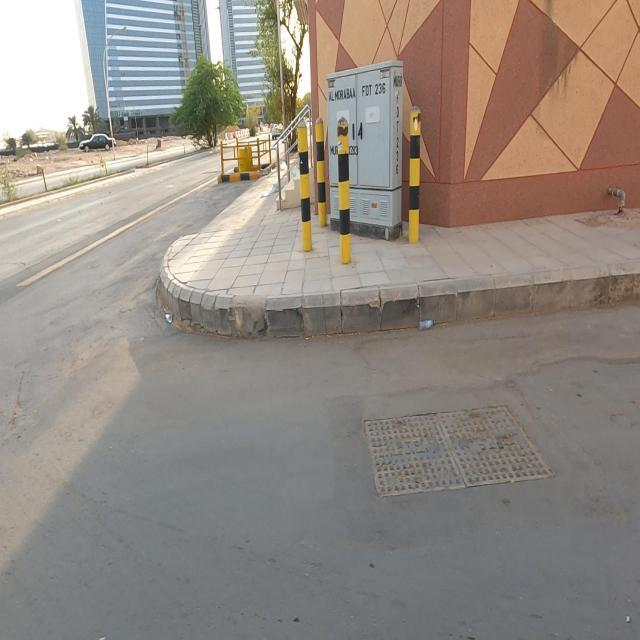debris: (400, 280, 456, 373), (134, 280, 197, 354), (254, 166, 291, 223)
